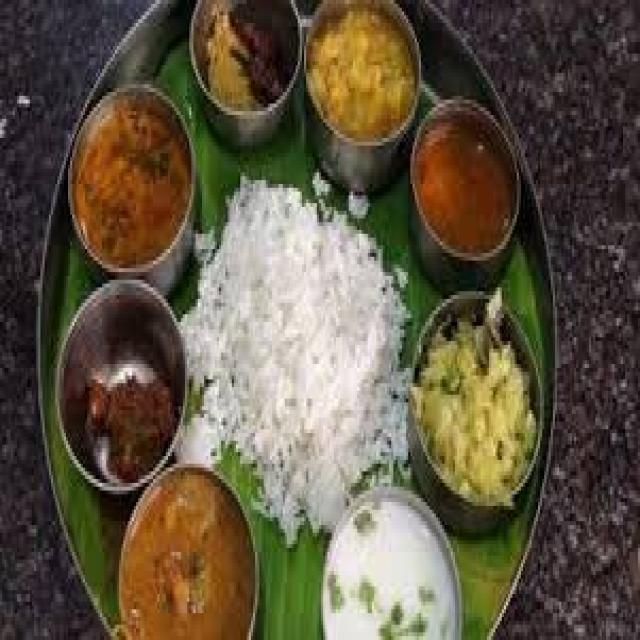dal: (309, 6, 419, 167)
pickle: (70, 293, 186, 480)
raita: (311, 485, 465, 640)
rice: (199, 184, 403, 503)
sambar-rasam: (58, 91, 205, 271), (408, 98, 522, 263)
veg: (112, 484, 264, 640)
veg-fry: (411, 300, 532, 515)
